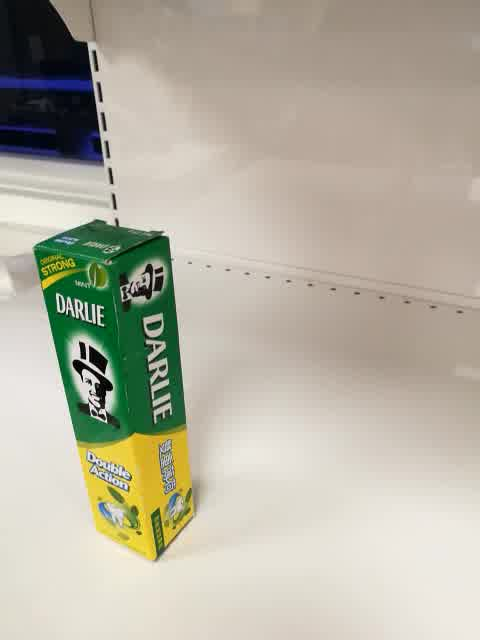toothpaste: (33, 219, 197, 565)
